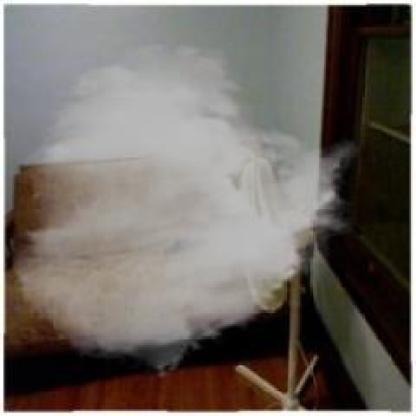Smoke: (9, 41, 362, 378)
